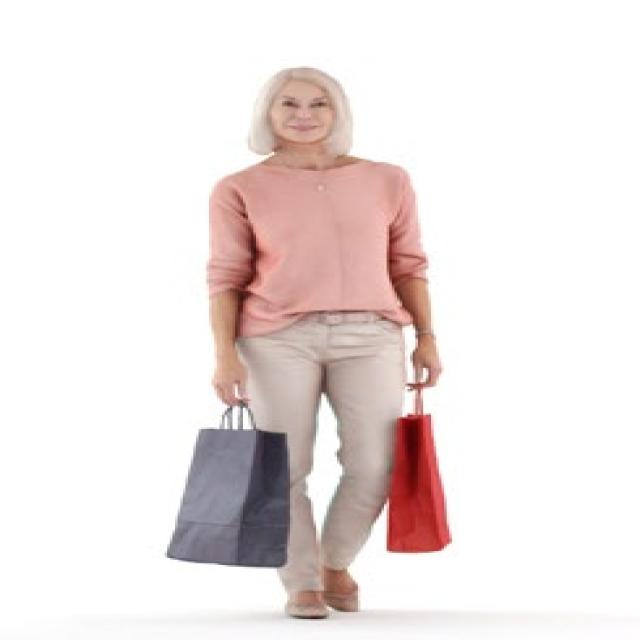standing: (208, 65, 449, 626)
